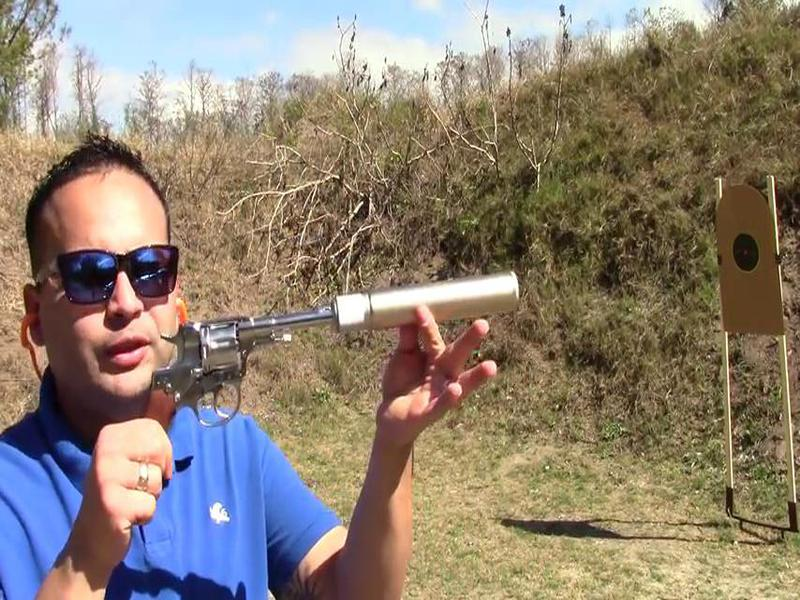Revolver: (107, 280, 342, 458)
